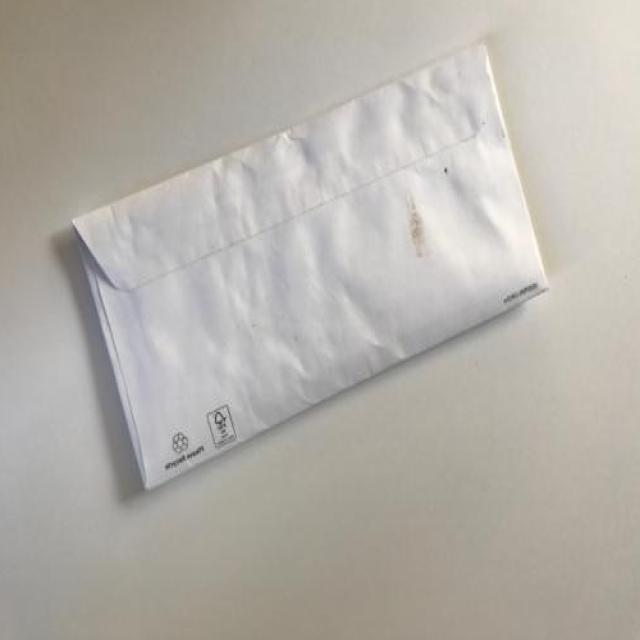kertas: (68, 40, 554, 490)
